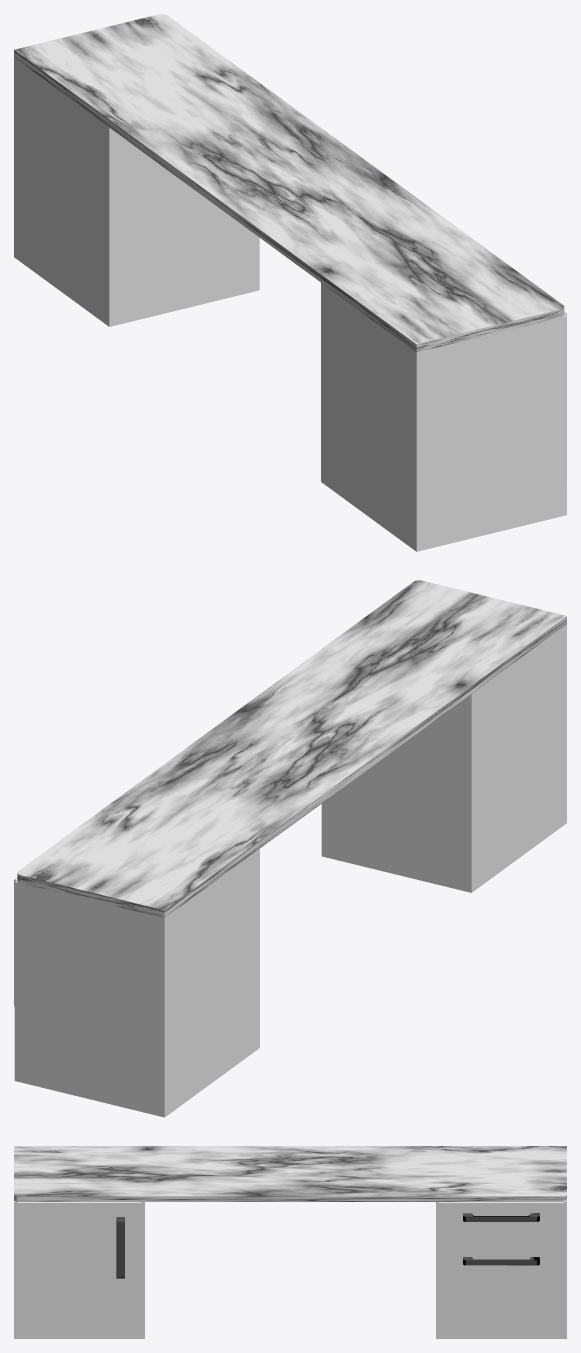
File: ModeloBalcaoCadeirante.glb
3 views of the same model, one above another, from view 1: azimuth 30°, elevation 25°; view 2: azimuth 150°, elevation 25°; view 3: azimuth 270°, elevation 25° (orthographic). The views are drawn at different scales.
Parts seen in each view (by area): view 1: mesh1, mesh3; view 2: mesh1, mesh3; view 3: mesh1, mesh3, mesh4, mesh5.
Part boxes in pixels (left/top/right/bottom): mesh1: left=14, top=58, right=566, bottom=551; mesh3: left=14, top=14, right=564, bottom=352; mesh1: left=14, top=624, right=566, bottom=1117; mesh3: left=17, top=580, right=566, bottom=918; mesh1: left=14, top=1201, right=566, bottom=1338; mesh3: left=14, top=1146, right=566, bottom=1201; mesh4: left=463, top=1213, right=539, bottom=1265; mesh5: left=116, top=1217, right=124, bottom=1278.
Size of the model in its own units: 0.672 by 0.818 by 2.88.
4 materials, 3 textured.
